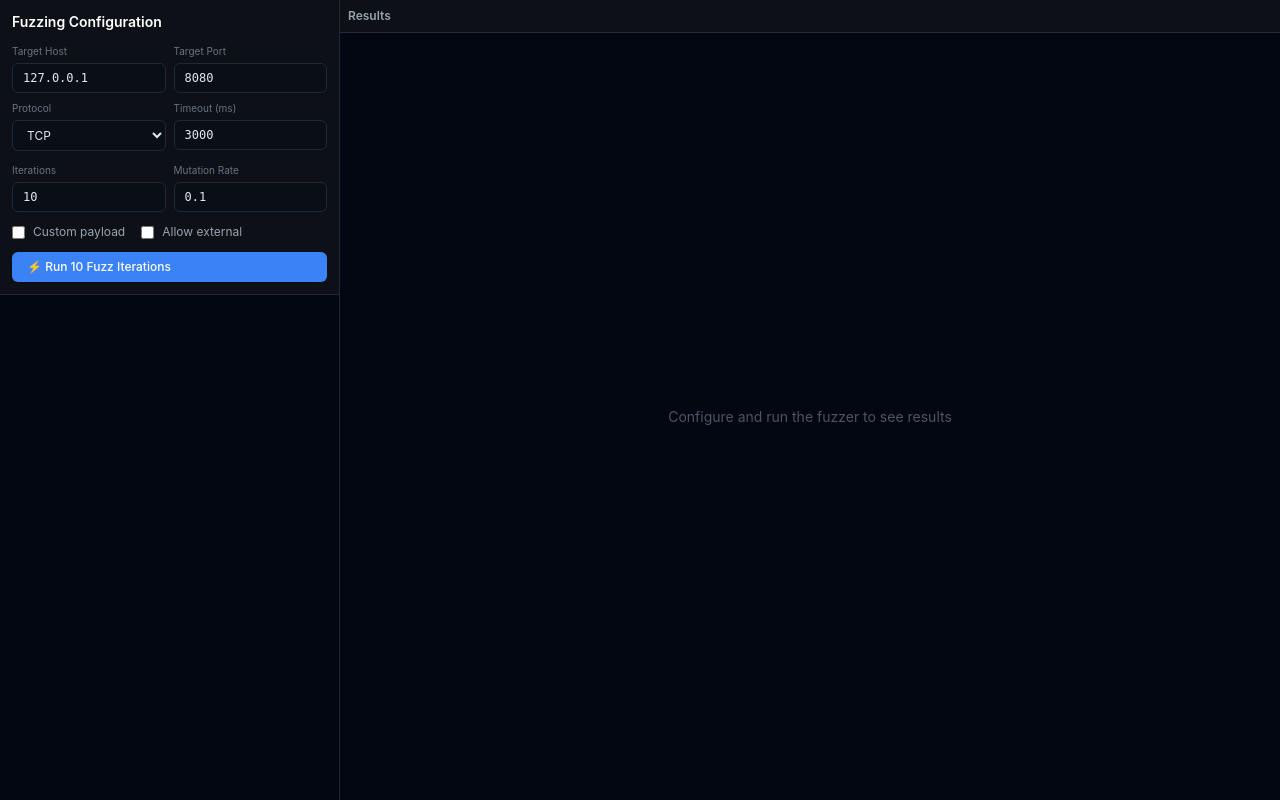
Test case: FuzzerView › filters results to errors only
The width and height of the screenshot is (1280, 800).
What coordinates should you click on to do the following:
click the button "⚡ Run 10 Fuzz Iterations"
I would click on:
 (170, 267)
Its box is x1=12 y1=252 x2=327 y2=282.
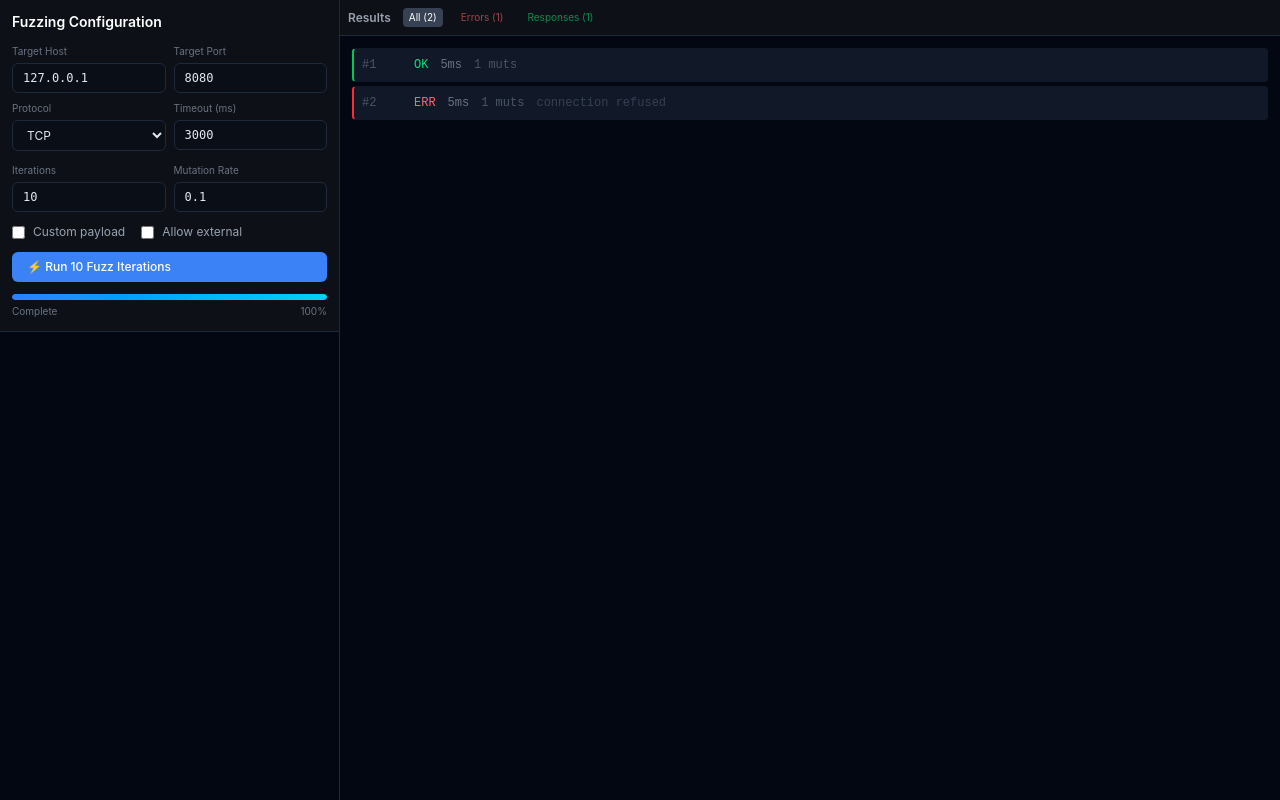
Result: the button "Errors (1)" is shown
What coordinates should you click on to do the following:
click the button "Errors (1)"
I would click on:
 (482, 18)
Its box is x1=455 y1=8 x2=510 y2=27.
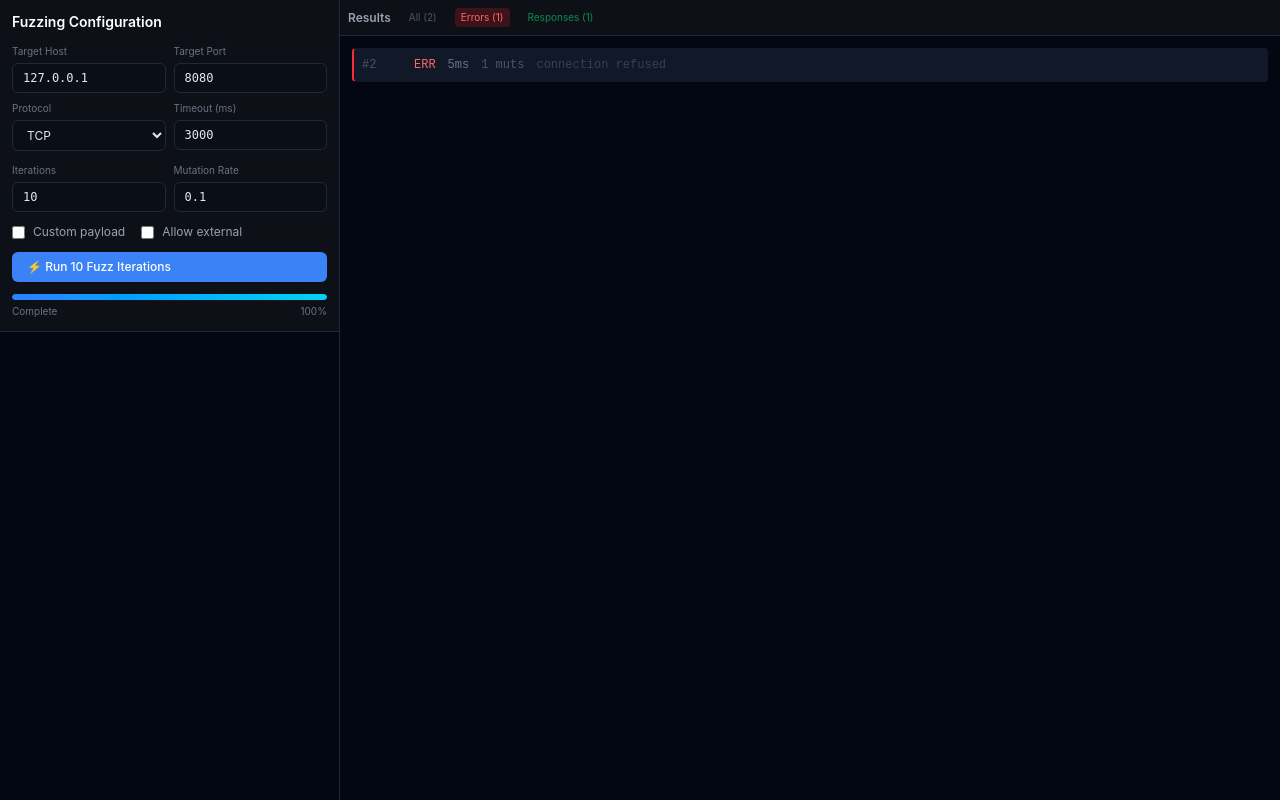
Result: the text "#2" is shown at x1=362 y1=58 x2=376 y2=72
Result: the text "#1" is gone
